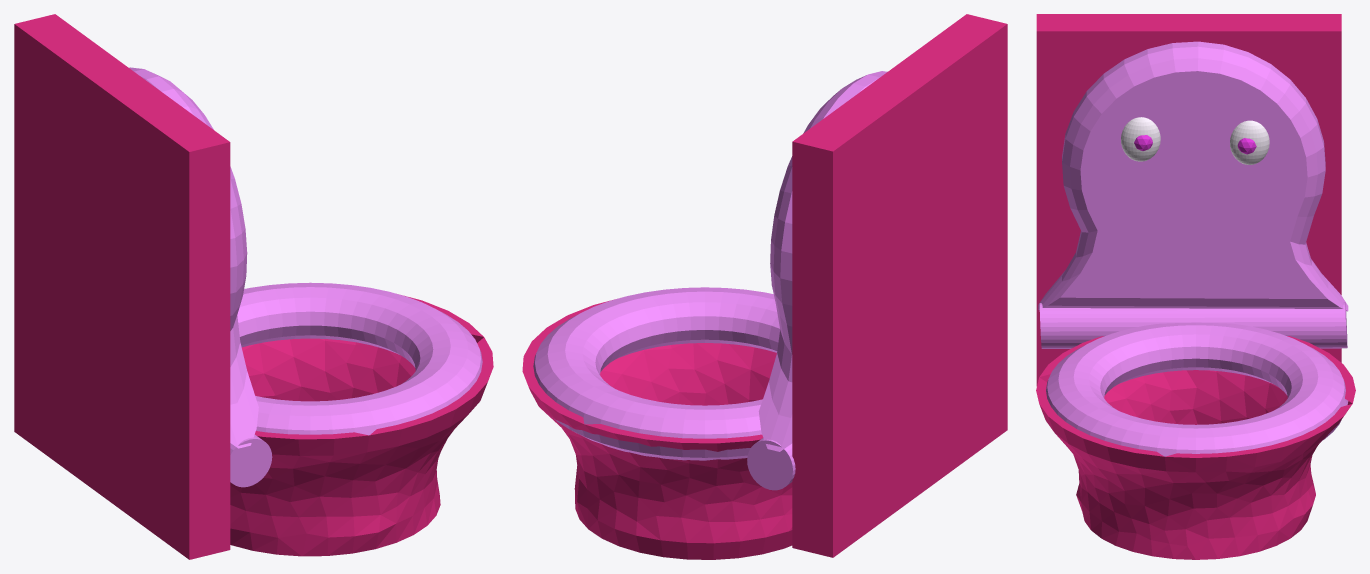
File: Inodoro 1.fbx
3 renders of one model, left to right at view 1: azimuth 30°, elevation 25°; view 2: azimuth 150°, elevation 25°; view 3: azimuth 270°, elevation 25°, orthographic. The views are drawn at different scales.
Parts seen in each view (by area): view 1: Tapa Back, Subterrain entrance, Tapa lower, Tapa, Cylinder; view 2: Tapa Back, Subterrain entrance, Tapa lower, Tapa, Cylinder; view 3: Tapa, Subterrain entrance, Tapa Back, Tapa lower, Cylinder, Eye, Eye Pupil.
Boxes of the visible parts, x1,y1,x2,y2 form: Tapa Back: (14, 14, 230, 559); Subterrain entrance: (230, 295, 493, 556); Tapa lower: (237, 282, 482, 435); Tapa: (129, 67, 258, 448); Cylinder: (230, 434, 272, 487); Tapa Back: (792, 14, 1007, 557); Subterrain entrance: (522, 299, 792, 559); Tapa lower: (533, 287, 779, 460); Tapa: (758, 71, 887, 451); Cylinder: (747, 438, 795, 490); Tapa: (1038, 41, 1348, 311); Subterrain entrance: (1036, 336, 1355, 559); Tapa Back: (1036, 14, 1341, 386); Tapa lower: (1046, 322, 1348, 456); Cylinder: (1039, 302, 1347, 348); Eye: (1121, 117, 1269, 164); Eye Pupil: (1134, 135, 1256, 154).
Bounding box in the file's own units: 819 × 986 × 701.
